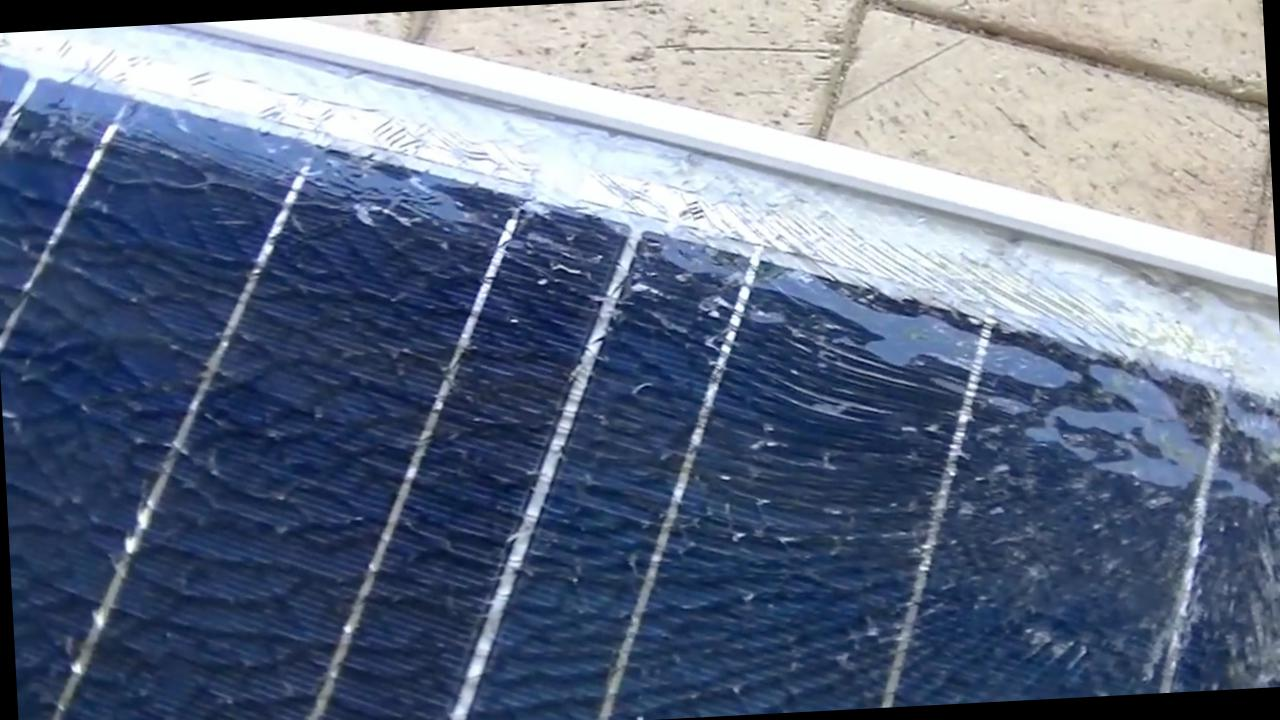Crack: (642, 190, 1254, 666)
